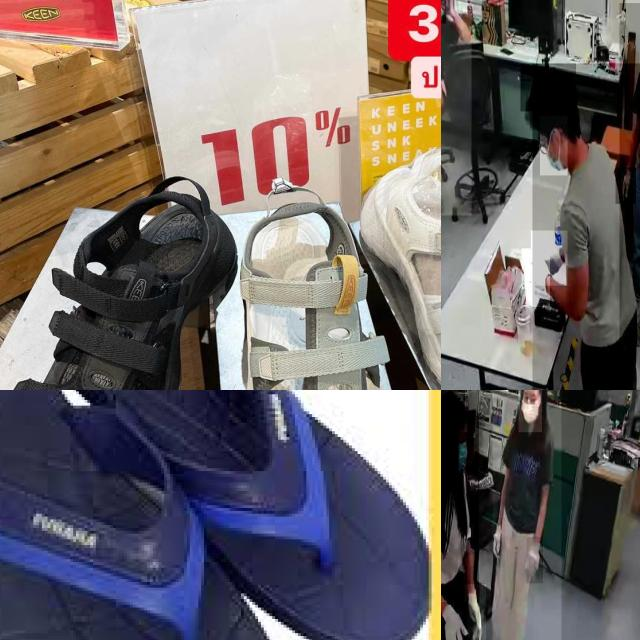Sandals: (0, 390, 441, 640), (11, 166, 224, 390), (218, 175, 427, 390), (345, 132, 441, 390)
face_mask: (540, 116, 568, 175), (448, 432, 474, 475), (518, 390, 541, 432)
hand_glove: (531, 230, 567, 286), (522, 248, 550, 307), (464, 584, 486, 640), (441, 602, 467, 640), (526, 537, 544, 584), (616, 167, 636, 204), (493, 518, 505, 568)
hand_noglove: (446, 0, 455, 17)
head_nohelmet: (520, 64, 576, 112), (441, 390, 465, 413)
person: (532, 63, 640, 390), (492, 390, 561, 640), (441, 390, 479, 640), (619, 3, 640, 347), (441, 0, 472, 216)
shoes: (441, 177, 448, 219)
